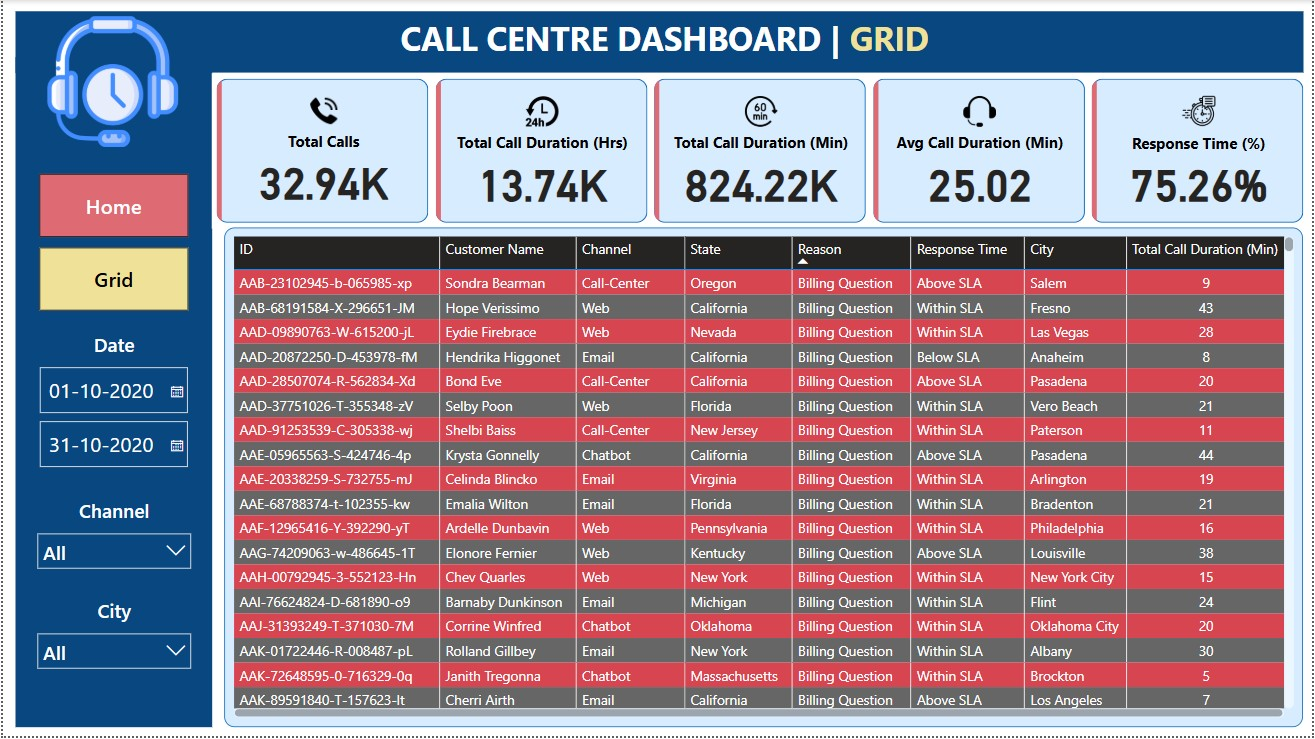

What the dashboard file says about the page in this screenshot:
{"tool":"powerbi","page":{"name":"Grid","canvas":[1280,720],"ordinal":1},"visuals":[{"type":"shape","box":[12.8,11.4,1260,60],"z":0},{"type":"shape","box":[12.2,56.5,192.4,655.1],"z":1000},{"type":"cardVisual","fields":{"Data":["All_Measures.Total_Calls","All_Measures.Total_Call_Duration_(Hrs)","All_Measures.Total_Call_Duration_(Min)","All_Measures.Avg_Call_Duration_(Min)","All_Measures.Responce_Time_(%)"]},"box":[204.6,71.8,1075.1,151.2],"z":2000},{"type":"textbox","box":[383.8,10.7,561.1,61.2],"z":3000},{"type":"slicer","title":"Date","fields":{"Values":["Date_Table.Date"]},"box":[22.9,323.7,171,143.5],"z":4000},{"type":"slicer","title":"City","fields":{"Values":["Call Center_Call Center.City"]},"box":[22.9,584.9,171,82.5],"z":5000},{"type":"slicer","title":"Channel","fields":{"Values":["Call Center_Call Center.Channel"]},"box":[22.9,487.1,171,87],"z":6000},{"type":"image","box":[30.5,10.7,154.2,137.4],"z":7000},{"type":"tableEx","fields":{"Values":["Call Center_Call Center.Id","Call Center_Call Center.Customer Name","Call Center_Call Center.Channel","Call Center_Call Center.State","Call Center_Call Center.Reason","Call Center_Call Center.Response Time","Call Center_Call Center.City","Sum(Call Center_Call Center.Call Duration In Minutes)"]},"box":[216.8,223,1055.2,488.7],"z":8000},{"type":"pageNavigator","box":[35.1,169.5,146.6,135.9],"z":8001}]}

Visuals, with their boxes in screenshot pixels (x1, y1, x2, y2), scaled from the page's 1280x720 canvas onto the 1315x739 screenshot:
shape: (left=13, top=12, right=1308, bottom=73)
shape: (left=13, top=58, right=210, bottom=730)
cardVisual - All_Measures.Total_Calls x All_Measures.Total_Call_Duration_(Hrs): (left=210, top=74, right=1314, bottom=229)
textbox: (left=394, top=11, right=971, bottom=74)
"Date" slicer: (left=24, top=332, right=199, bottom=480)
"City" slicer: (left=24, top=600, right=199, bottom=685)
"Channel" slicer: (left=24, top=500, right=199, bottom=589)
image: (left=31, top=11, right=190, bottom=152)
tableEx - Call Center_Call Center.Id x Call Center_Call Center.Customer Name: (left=223, top=229, right=1307, bottom=730)
pageNavigator: (left=36, top=174, right=187, bottom=313)
